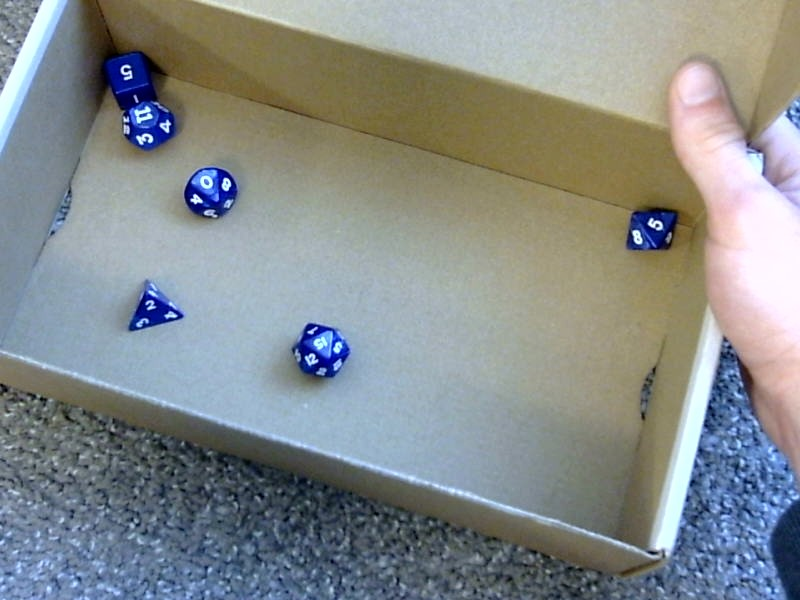d10 10: (181, 165, 244, 223)
d12 11: (120, 100, 179, 151)
d20 15: (289, 318, 360, 381)
d4 2: (120, 271, 195, 335)
d6 5: (102, 45, 160, 109)
d8 5: (618, 196, 680, 255)
